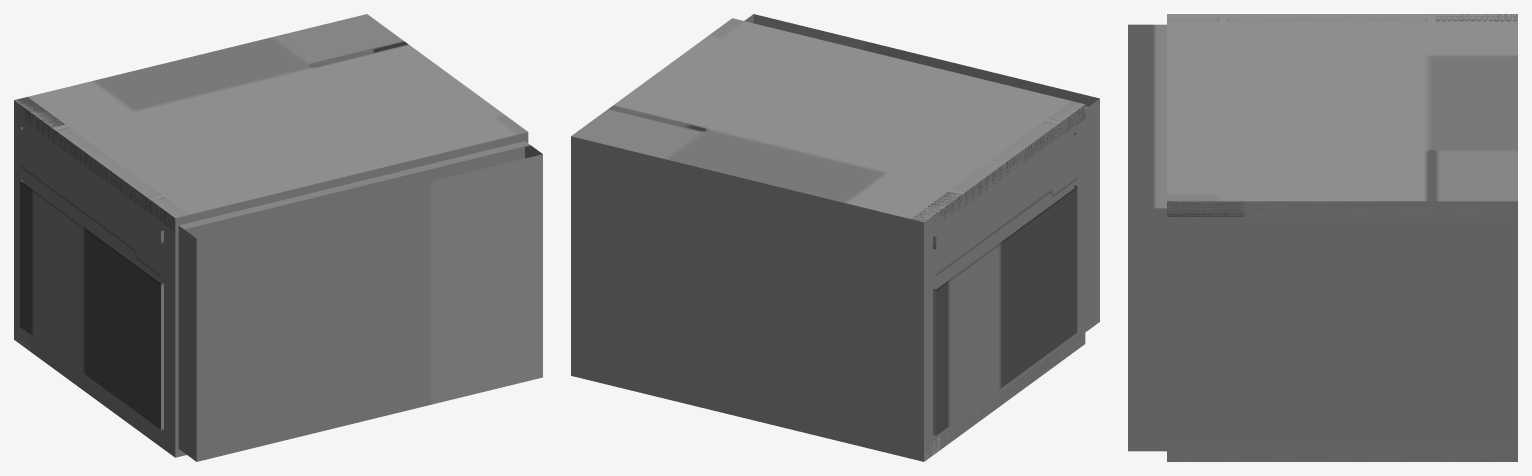
The picture shows the model from 3 angles, left to right: view 1: azimuth 30°, elevation 25°; view 2: azimuth 150°, elevation 25°; view 3: azimuth 270°, elevation 25°; orthographic projection. The views are drawn at different scales.
Bounding box in the file's own units: 1 × 0.6545 × 0.864.
